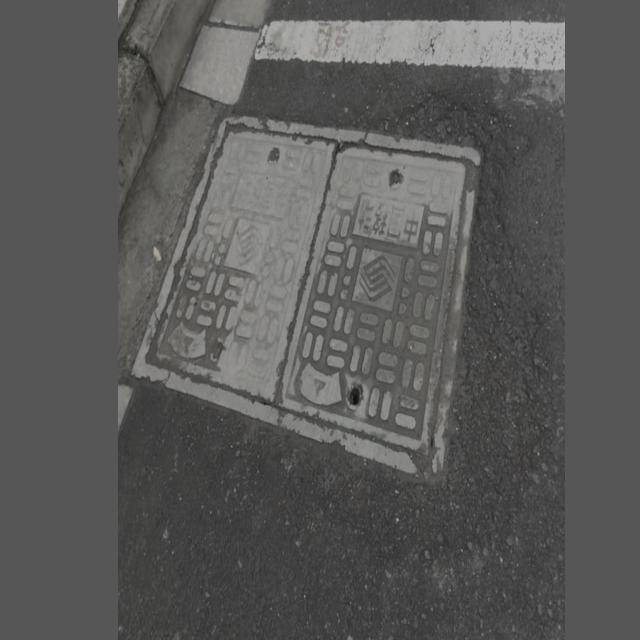good: (127, 117, 478, 478)
